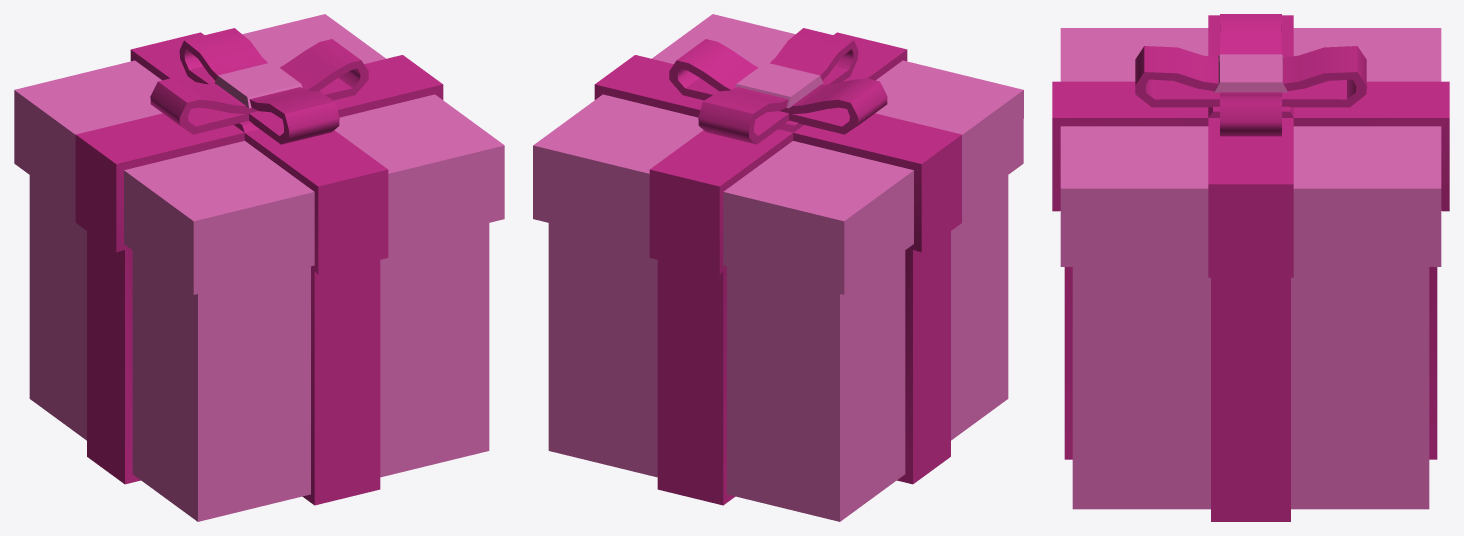
The model's file is Giftbox1-3.fbx.
3 views of the same model, side by side, from view 1: azimuth 30°, elevation 25°; view 2: azimuth 150°, elevation 25°; view 3: azimuth 270°, elevation 25° (orthographic). The views are drawn at different scales.
Parts seen in each view (by area): view 1: Box006; view 2: Box006; view 3: Box006.
Part boxes in pixels (x1,y1,x2,y2): Box006: (14,14,504,521); Box006: (533,14,1023,521); Box006: (1052,14,1449,521).
Size of the model in its own units: 21.21 by 22.46 by 21.06.
